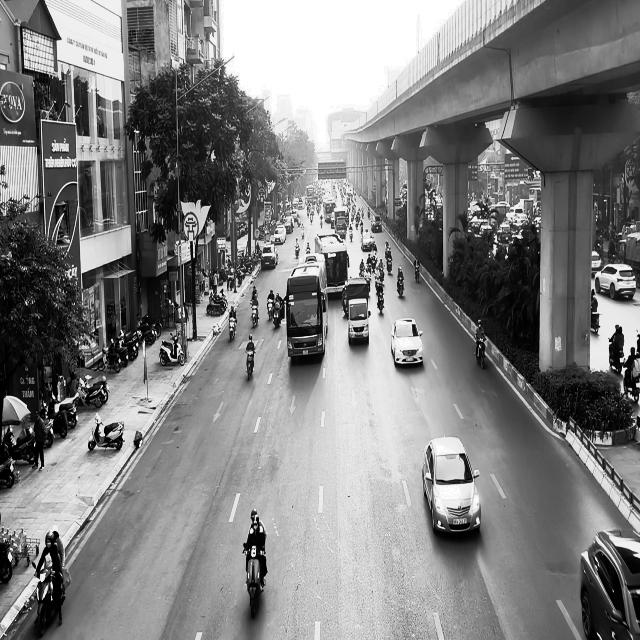bus: (286, 254, 328, 361), (314, 231, 349, 298)
car: (579, 528, 640, 639), (422, 436, 481, 535), (391, 317, 424, 367), (594, 262, 636, 300), (347, 297, 371, 345)
motorbike: (31, 560, 65, 636), (242, 543, 266, 619), (88, 412, 124, 451), (159, 332, 185, 366), (474, 332, 486, 368), (245, 347, 255, 380), (250, 301, 259, 328), (228, 314, 236, 341), (396, 276, 404, 298), (413, 260, 420, 282), (267, 300, 274, 320), (294, 243, 300, 258)
